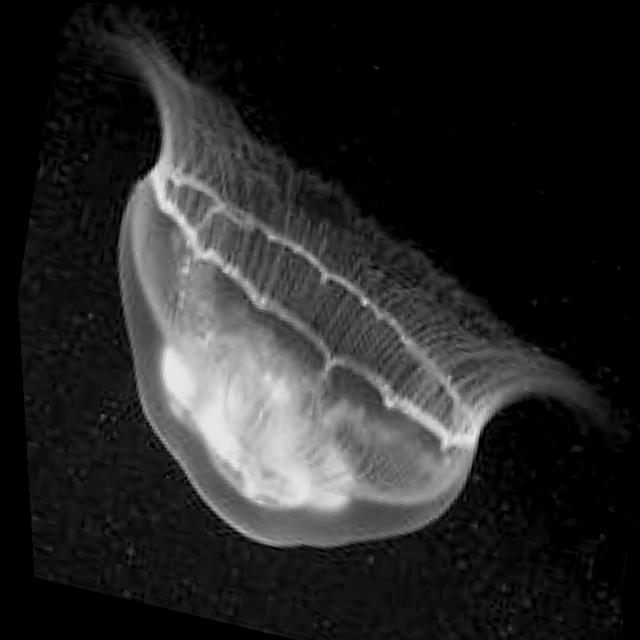Moon-jellyfish: (0, 3, 640, 622)
